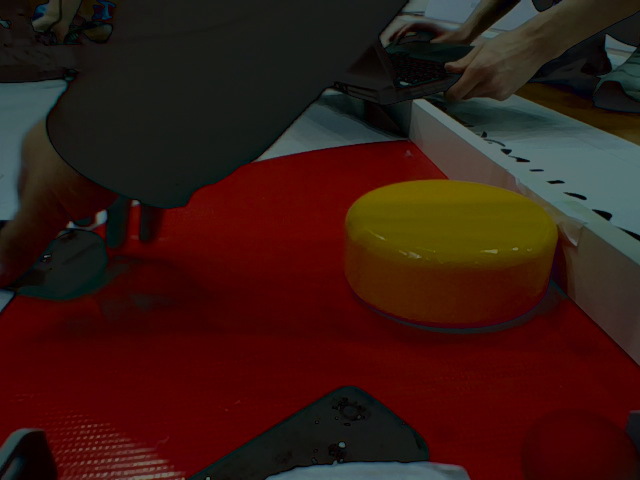black: (1, 219, 111, 291)
red: (520, 396, 640, 480)
yellow: (333, 169, 594, 342)
